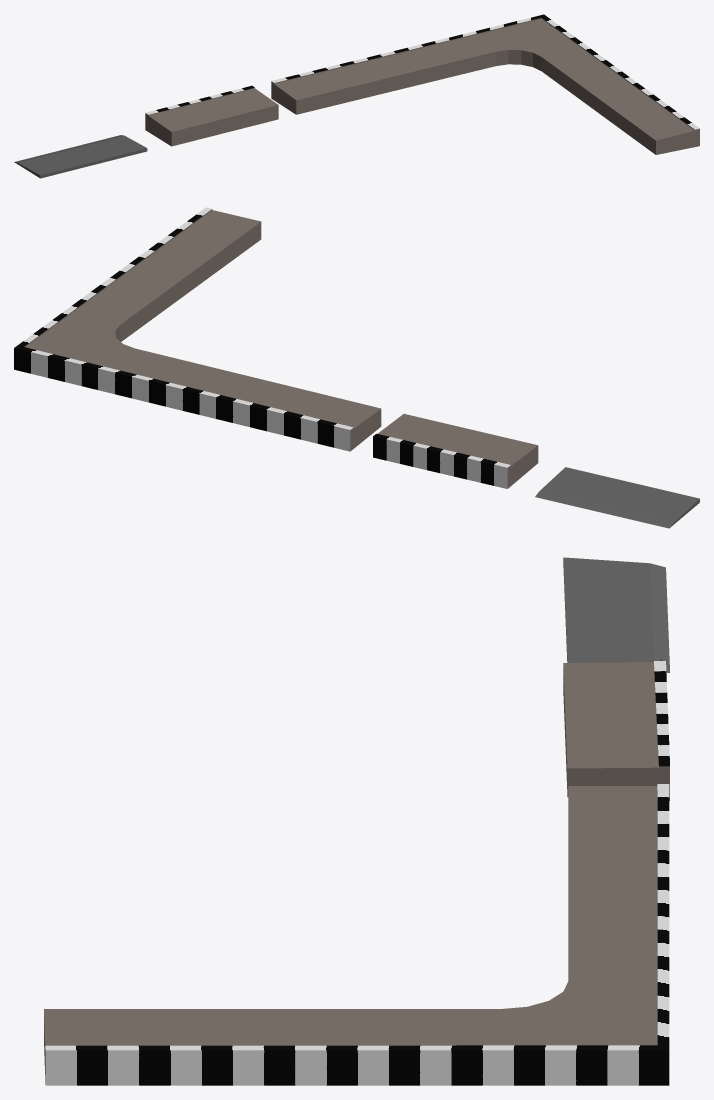
File: trotoar.fbx
The picture shows the model from 3 angles, top to bottom: view 1: azimuth 30°, elevation 25°; view 2: azimuth 150°, elevation 25°; view 3: azimuth 270°, elevation 25°; orthographic projection. The views are drawn at different scales.
Visible parts, largest first — view 1: TrotoarPerempatan, Trotoar, DepanRumah; view 2: TrotoarPerempatan, Trotoar, DepanRumah; view 3: TrotoarPerempatan, Trotoar, DepanRumah.
Part boxes in pixels (x1,y1,x2,y2): TrotoarPerempatan: (271, 14, 699, 154); Trotoar: (145, 85, 278, 146); DepanRumah: (14, 135, 147, 178); TrotoarPerempatan: (14, 207, 381, 451); Trotoar: (373, 414, 538, 488); DepanRumah: (535, 467, 699, 528); TrotoarPerempatan: (44, 784, 669, 1085); Trotoar: (563, 660, 669, 800); DepanRumah: (563, 557, 669, 672).
Size of the model in its own units: 983 by 31.07 by 502.
